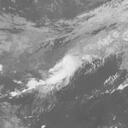cyclone: (29, 40, 86, 95)
